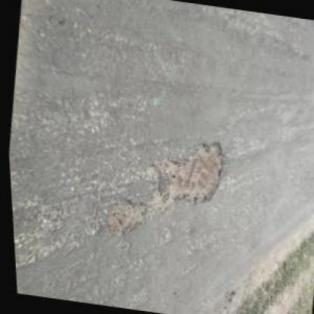Hueco: (158, 135, 229, 211), (102, 198, 146, 242)
